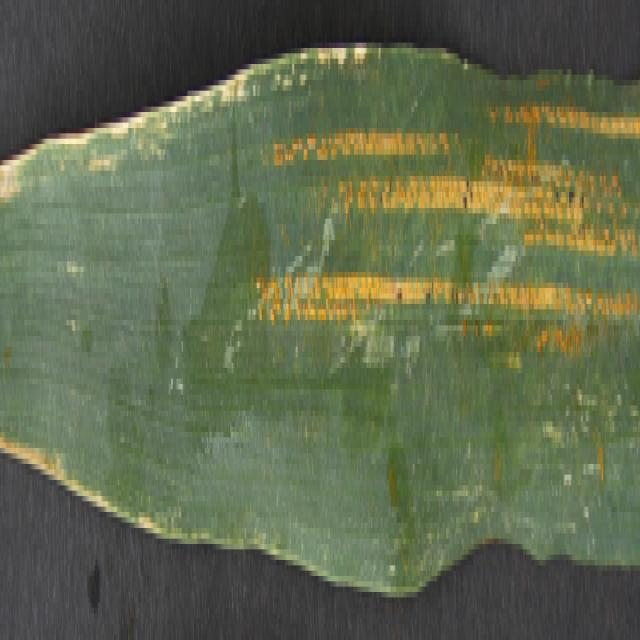leaf rust: (264, 96, 640, 416)
